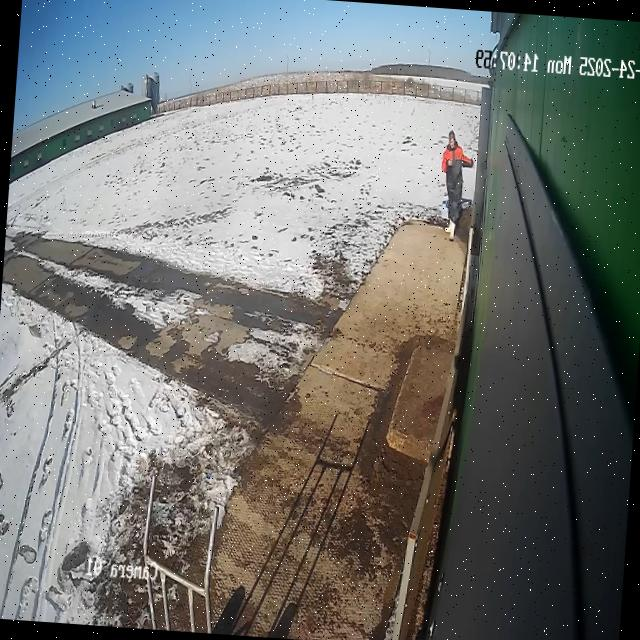Red uniform: (441, 130, 473, 240)
